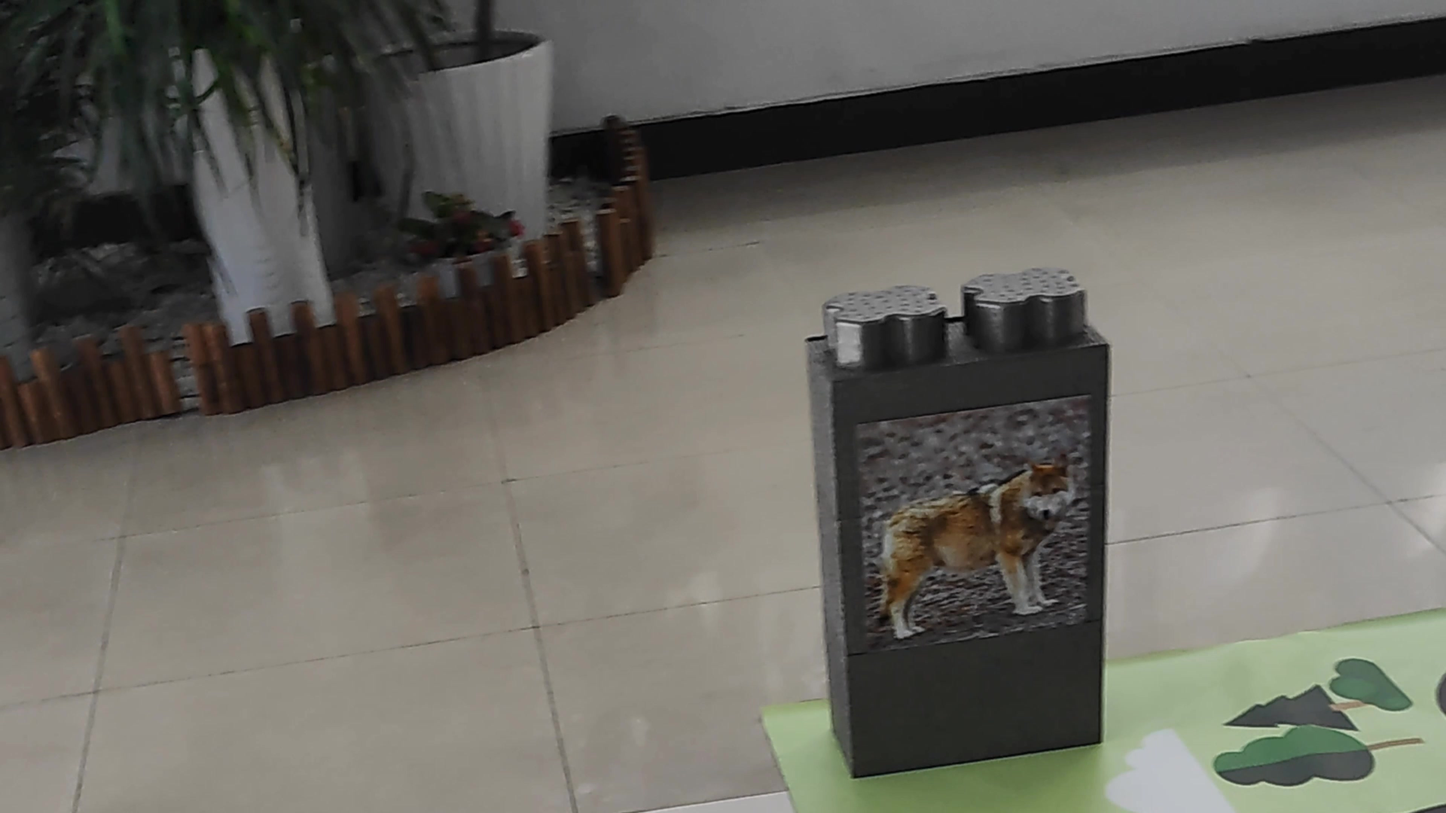wolf: (843, 443, 1076, 659)
